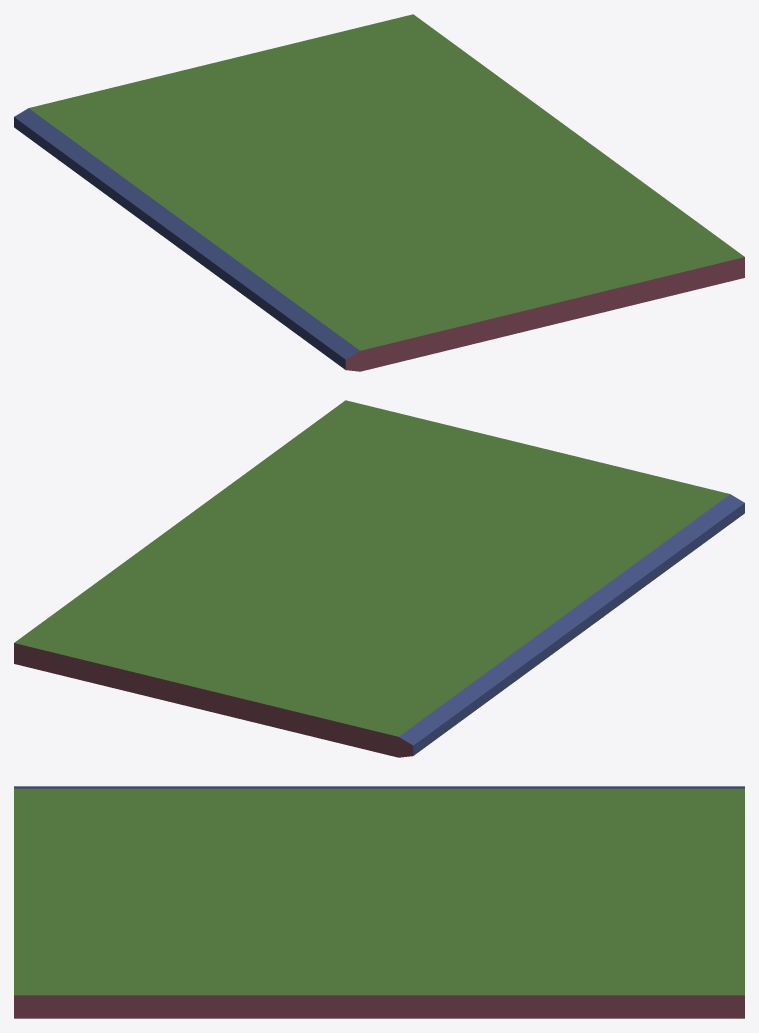
File: magazine.fbx
3 views of the same model, one above another, from view 1: azimuth 30°, elevation 25°; view 2: azimuth 150°, elevation 25°; view 3: azimuth 270°, elevation 25° (orthographic). The views are drawn at different scales.
Parts seen in each view (by area): view 1: magazine; view 2: magazine; view 3: magazine.
Part boxes in pixels (bbox=[...]): magazine: bbox=[14, 14, 744, 371]; magazine: bbox=[14, 400, 744, 757]; magazine: bbox=[14, 786, 744, 1018].
Bounding box in the file's own units: 0.4889 × 0.0245 × 0.7032.
